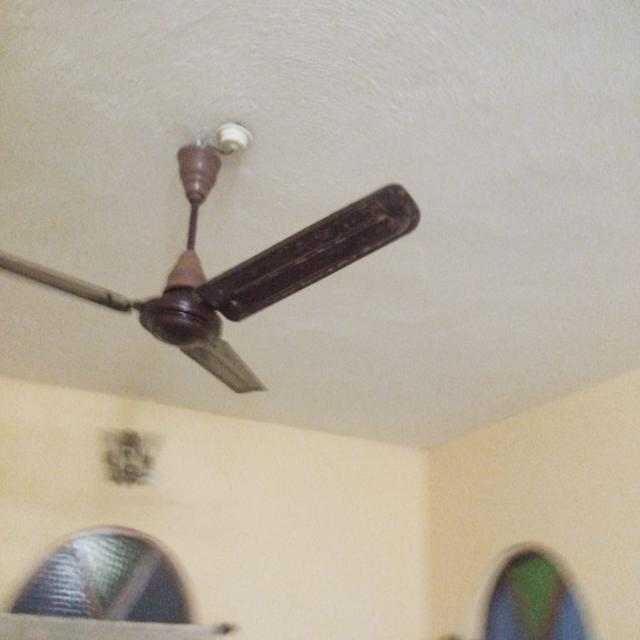fan_off: (0, 148, 423, 392)
